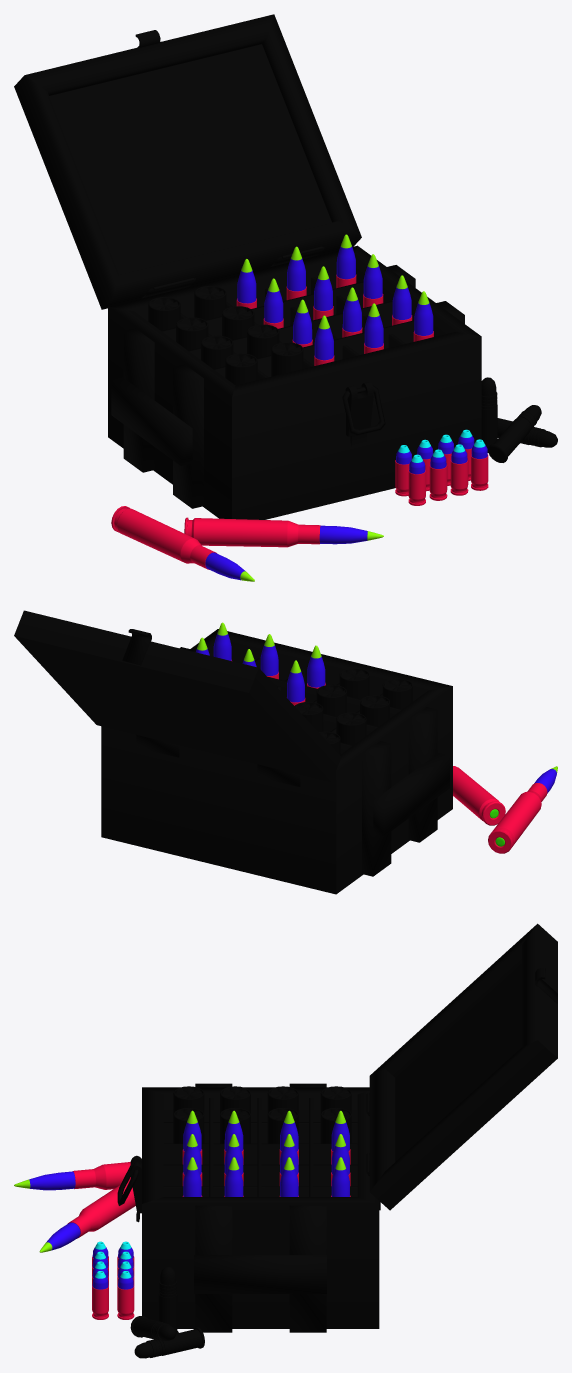
The model's file is C_poisonAmmo.fbx.
The picture shows the model from 3 angles, top to bottom: view 1: azimuth 30°, elevation 25°; view 2: azimuth 150°, elevation 25°; view 3: azimuth 270°, elevation 25°; orthographic projection. The views are drawn at different scales.
Parts seen in each view (by area): view 1: C_poisonAmmo; view 2: C_poisonAmmo; view 3: C_poisonAmmo.
Part boxes in pixels (x1,y1,x2,y2): C_poisonAmmo: (14,14,557,581); C_poisonAmmo: (14,610,557,894); C_poisonAmmo: (14,923,557,1358).
Size of the model in its own units: 0.6553 by 0.4769 by 0.7739.
